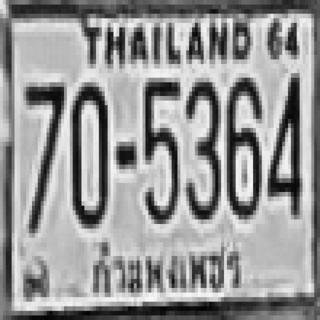N00: (70, 78, 108, 224)
N03: (183, 78, 218, 219)
N04: (265, 71, 300, 213)
N05: (144, 78, 179, 219)
N06: (226, 73, 260, 215)
N07: (23, 80, 64, 231)
P16: (84, 239, 244, 302)
